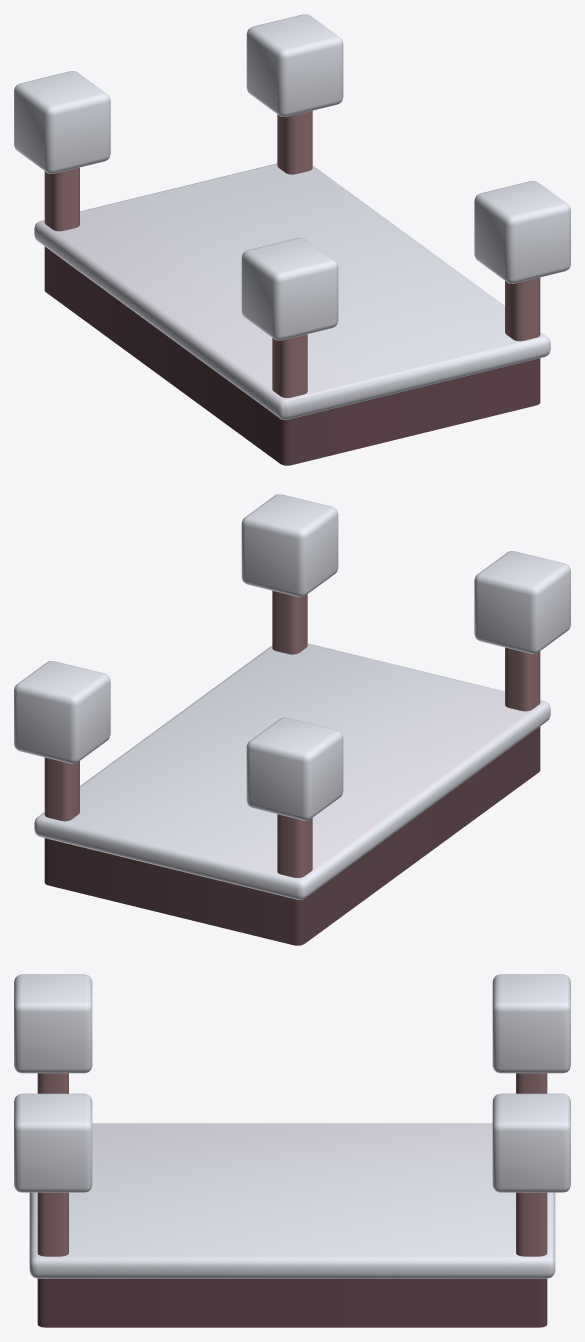
File: GroundLevelWinter.fbx
3 renders of one model, top to bottom at view 1: azimuth 30°, elevation 25°; view 2: azimuth 150°, elevation 25°; view 3: azimuth 270°, elevation 25°, orthographic. The views are drawn at different scales.
Parts seen in each view (by area): view 1: GroundLevelWinter; view 2: GroundLevelWinter; view 3: GroundLevelWinter.
Boxes of the visible parts, <box> form: GroundLevelWinter: <box>14,14,570,465</box>; GroundLevelWinter: <box>14,494,570,945</box>; GroundLevelWinter: <box>14,974,570,1327</box>.
Bounding box in the file's own units: 920 × 600 × 1420.
